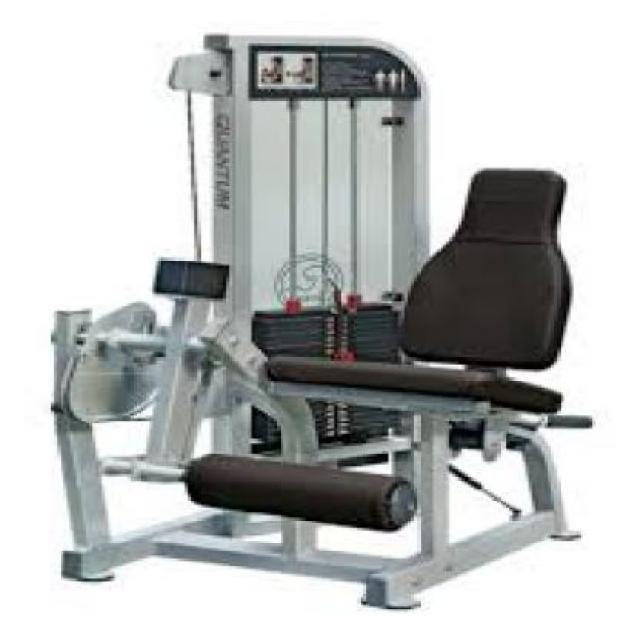leg extension: (29, 17, 608, 623)
